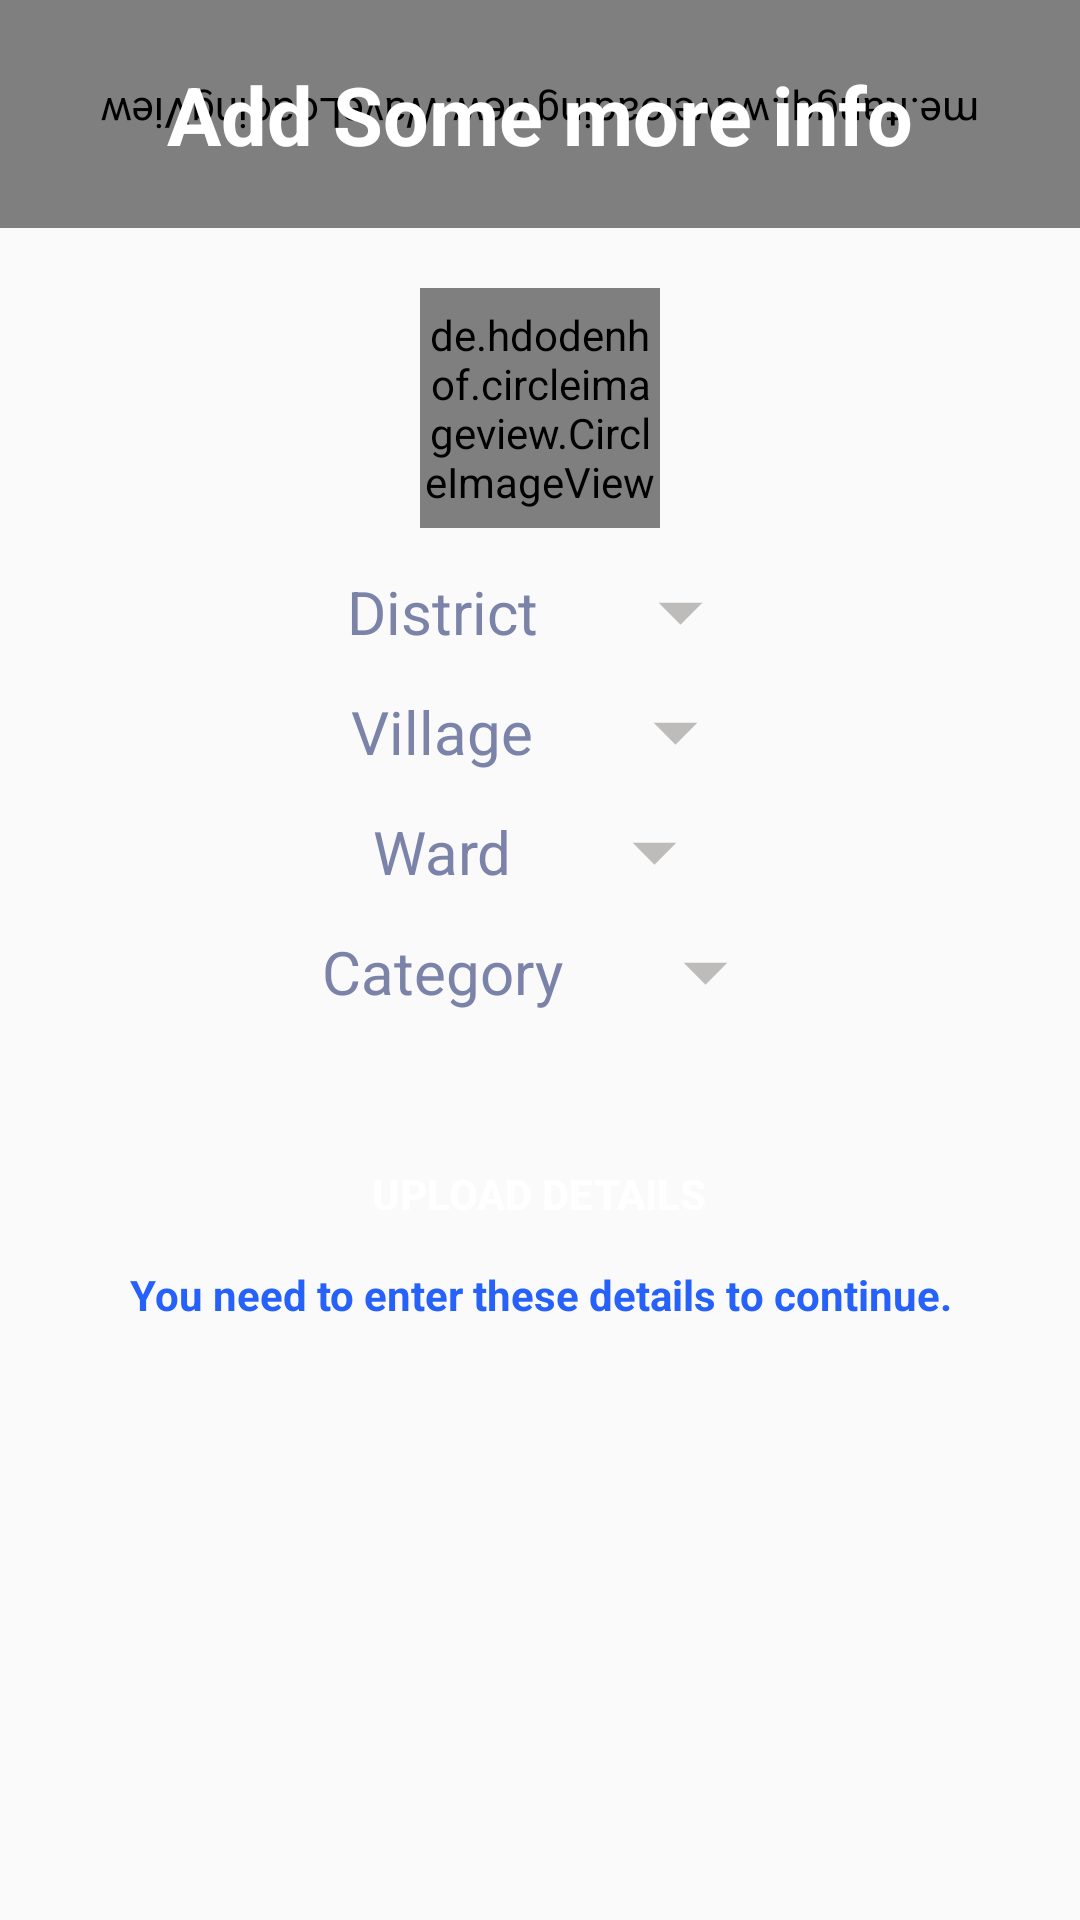

Screen size 1080×1920. Icon name, then its box in pixels as (x1, y1, x2, y2):
arrow drop down: (659, 603, 702, 625), (654, 723, 697, 745), (633, 843, 676, 865), (684, 963, 727, 985)
